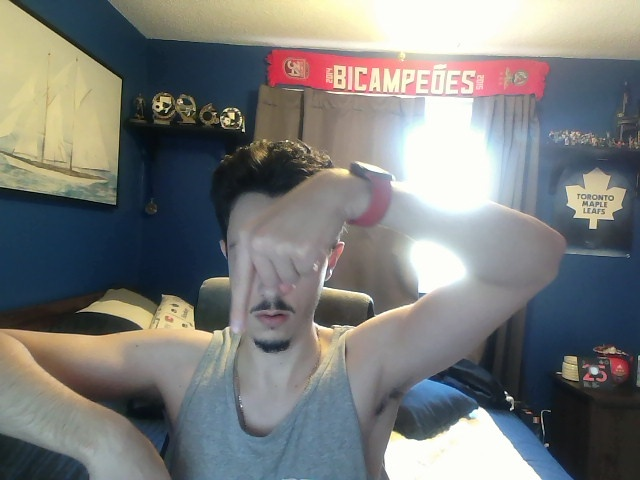Down: (228, 169, 352, 335)
